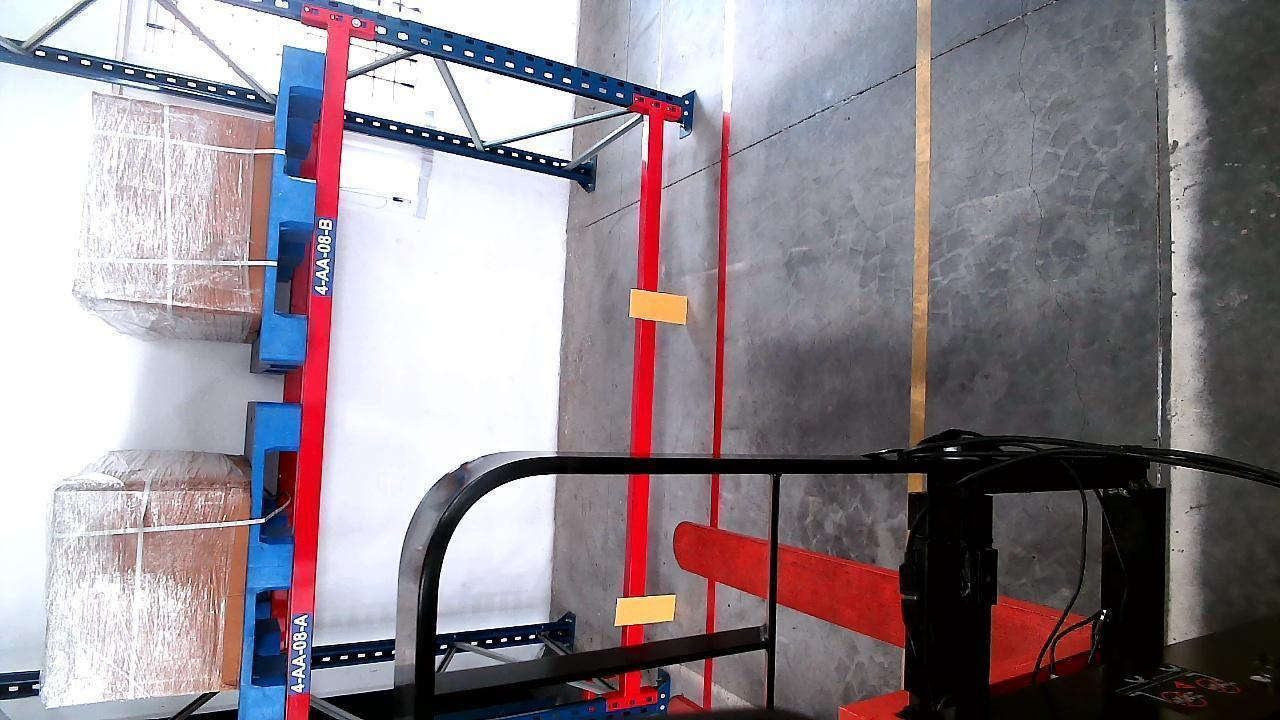red_line: (704, 109, 732, 708)
yellow_line: (909, 1, 935, 440)
